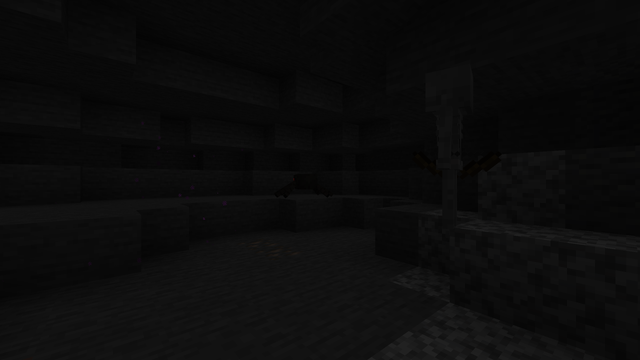araignees: (276, 171, 330, 198)
squelettes: (416, 61, 482, 232)
